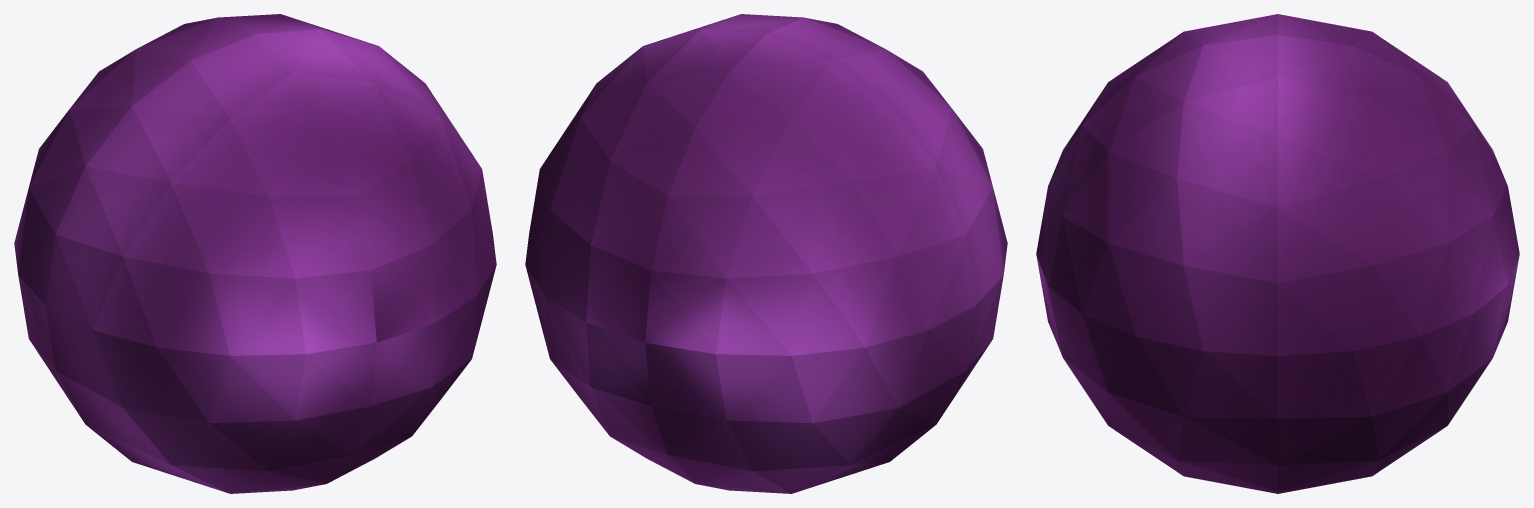
Rendered from glow_bounce.fbx.
3 views of the same model, side by side, from view 1: azimuth 30°, elevation 25°; view 2: azimuth 150°, elevation 25°; view 3: azimuth 270°, elevation 25° (orthographic).
Visible parts, largest first — view 1: GeoSphere; view 2: GeoSphere; view 3: GeoSphere.
Part boxes in pixels (<box>): GeoSphere: <box>14,14,496,493</box>; GeoSphere: <box>525,14,1007,493</box>; GeoSphere: <box>1036,14,1519,493</box>.
Size of the model in its own units: 0.5 by 0.5 by 0.5.
1 material, 1 textured.
